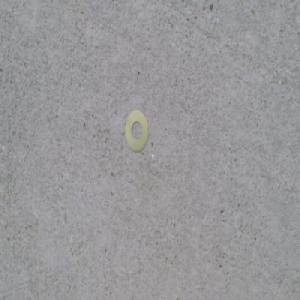Washer: (124, 108, 148, 153)
